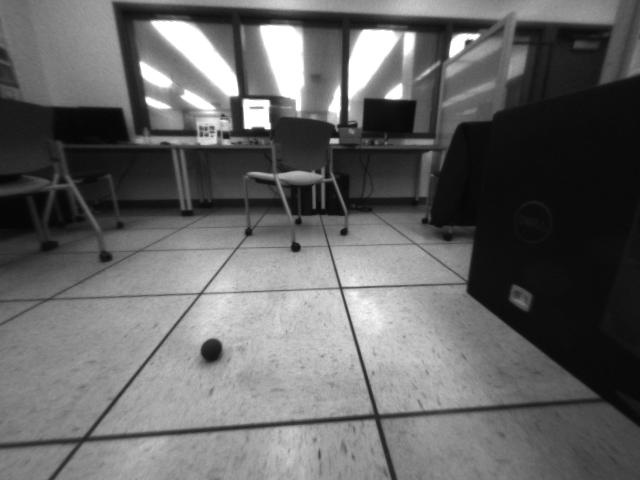dogtoy: (193, 328, 233, 369)
